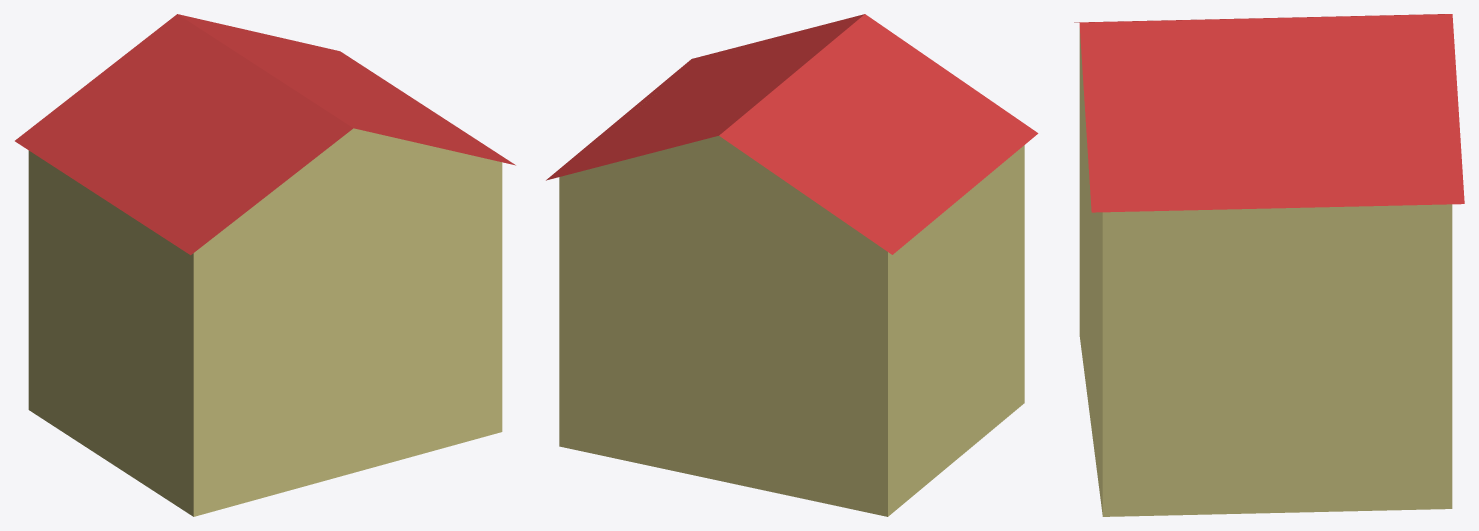
The picture shows the model from 3 angles, left to right: view 1: azimuth 30°, elevation 25°; view 2: azimuth 150°, elevation 25°; view 3: azimuth 270°, elevation 25°; orthographic projection. The views are drawn at different scales.
Size of the model in its own units: 9.9 by 8.38 by 9.42.
